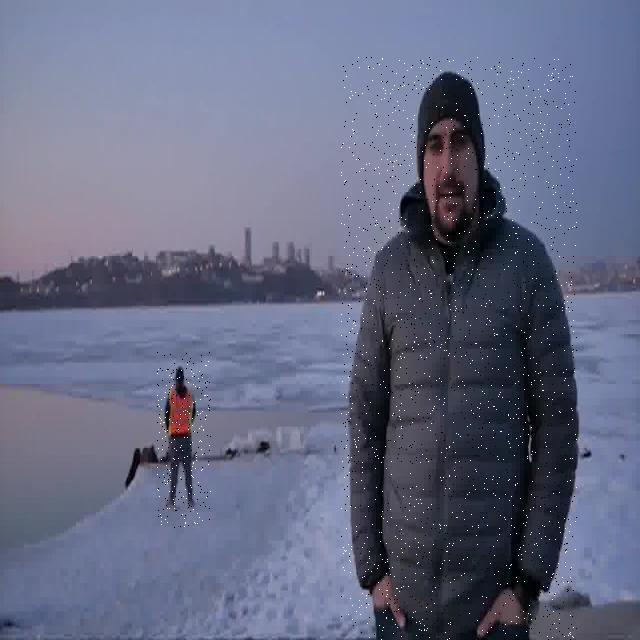person: (341, 57, 577, 640), (157, 352, 211, 528)
vest: (166, 387, 196, 439)
